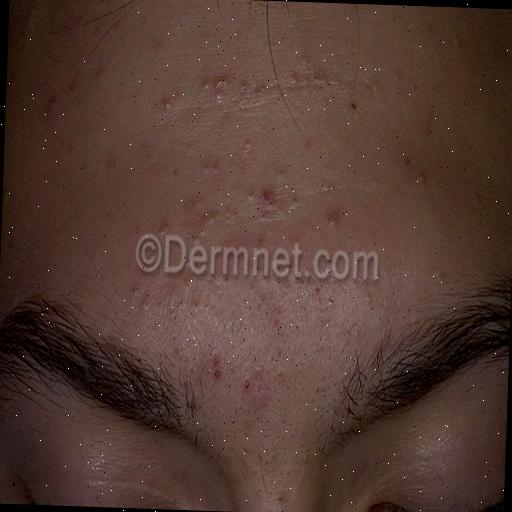Skin_Lesion: (199, 62, 272, 118), (289, 47, 340, 112), (26, 77, 82, 127), (184, 180, 228, 242), (250, 160, 290, 223), (398, 150, 432, 202), (124, 280, 160, 324), (242, 360, 270, 404), (202, 343, 229, 382), (154, 85, 180, 120), (323, 212, 343, 230)
